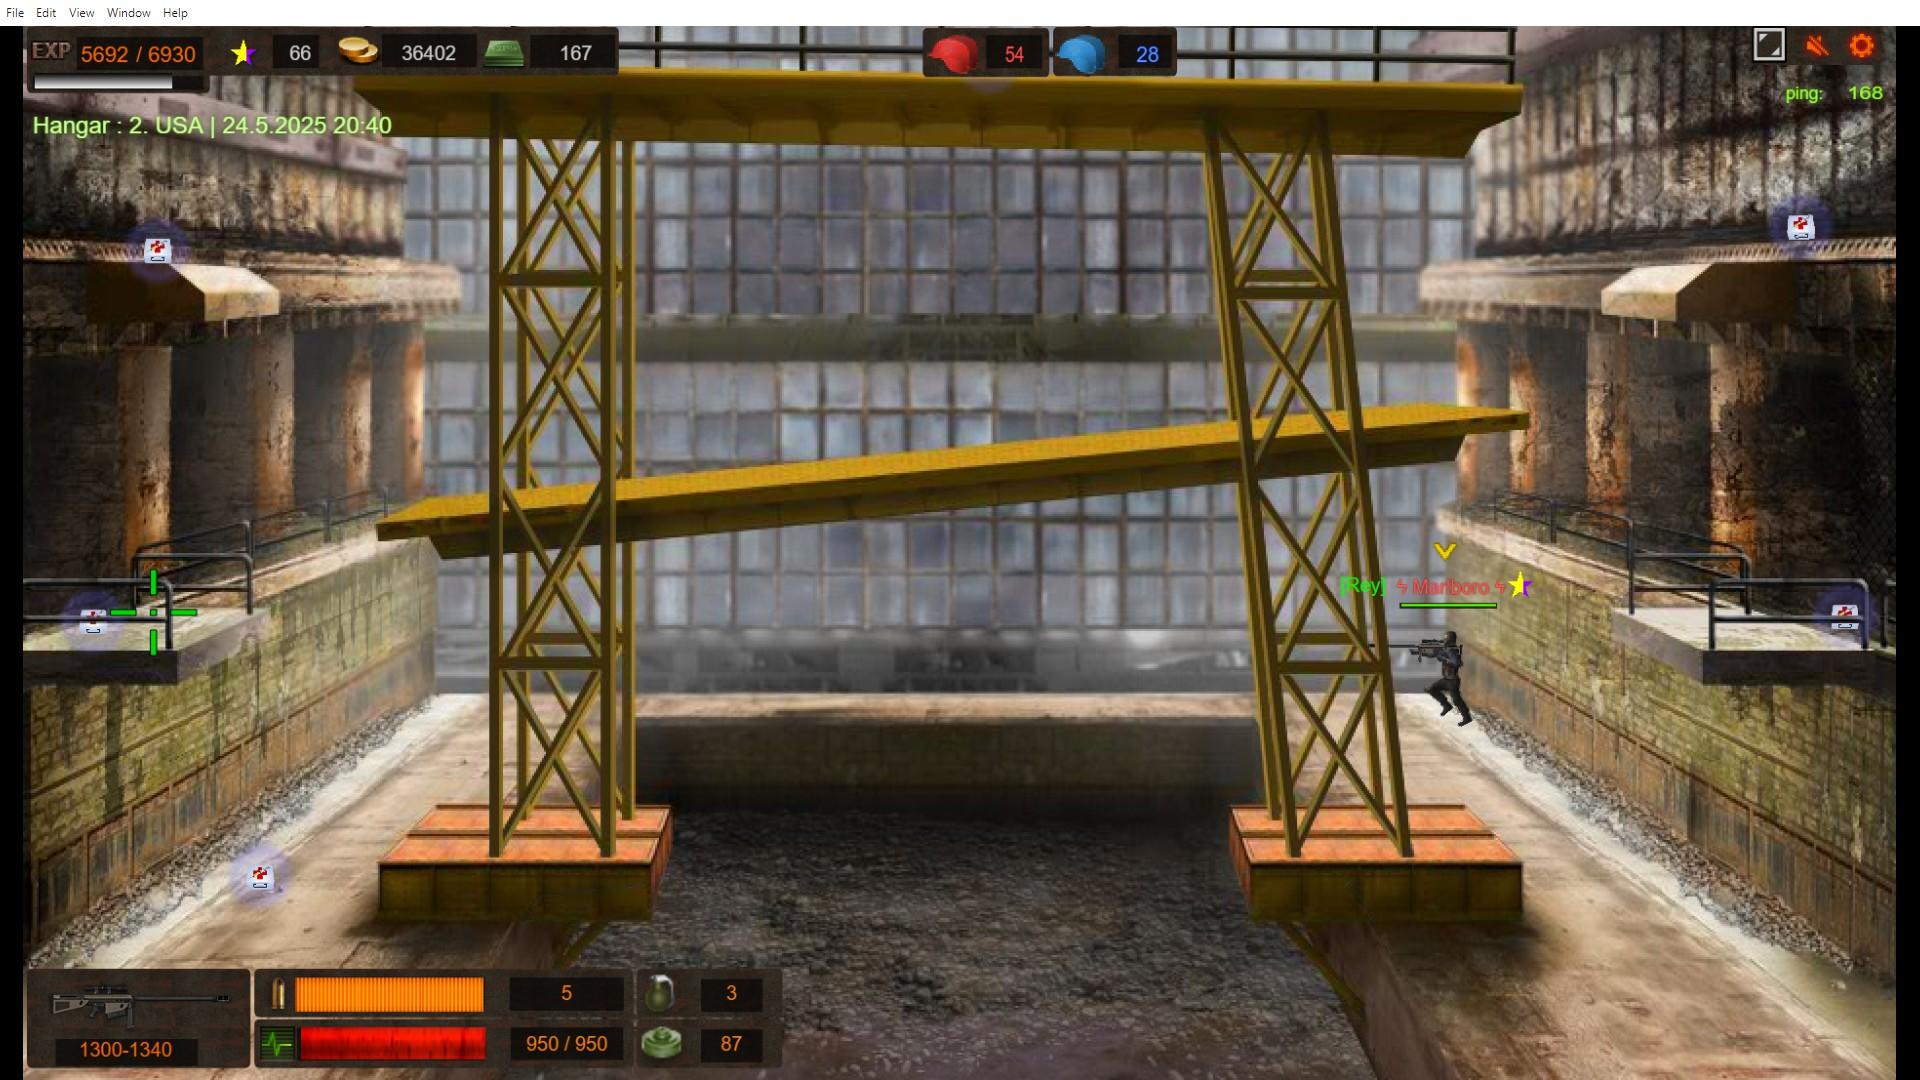enemy: (1441, 630, 1465, 721)
